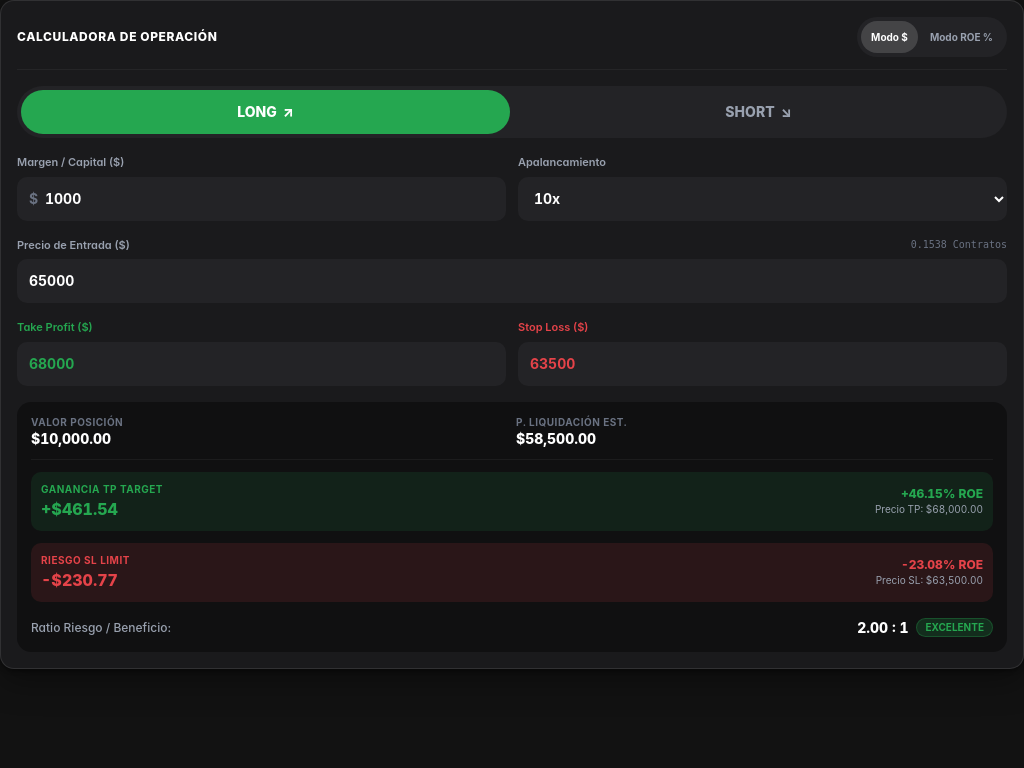
Scenario: Calculator › cambia a SHORT y recalcula liq
Click the button "SHORT ↘" at (758,112), box [514,90,1003,134]
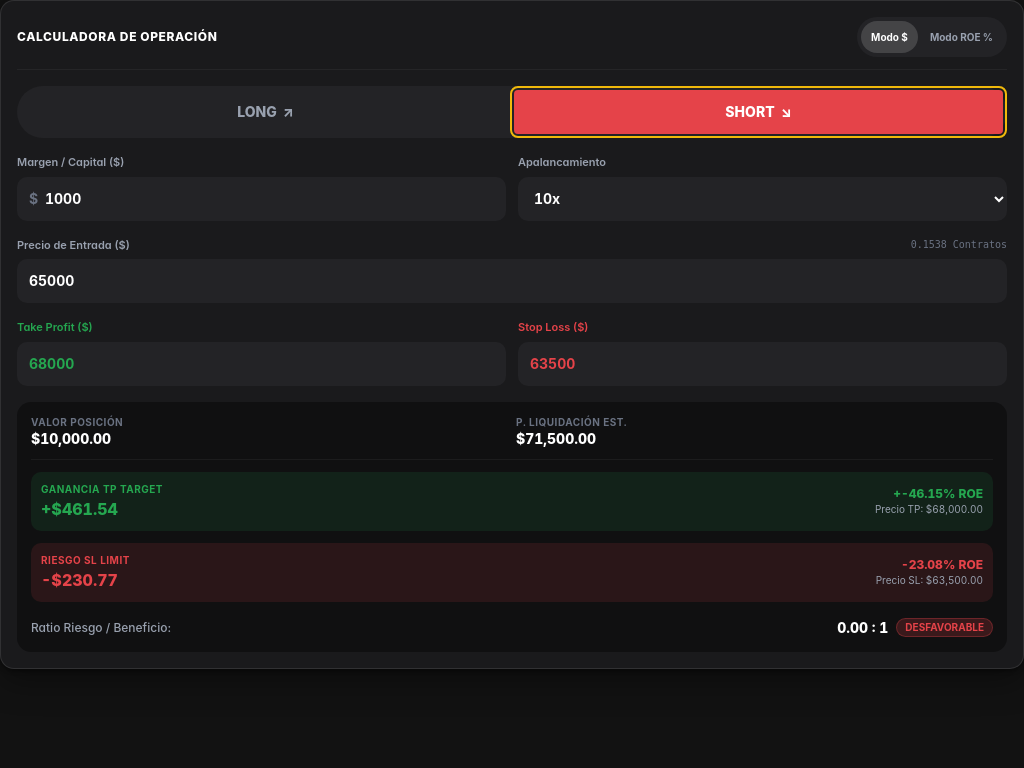
Expected: the text "$71,500.00" is shown, [516,430,596,447]
